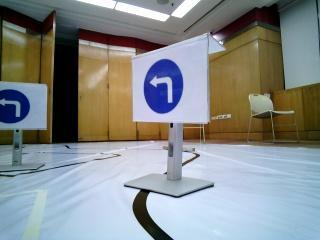left: (138, 56, 203, 121), (1, 82, 48, 130)
